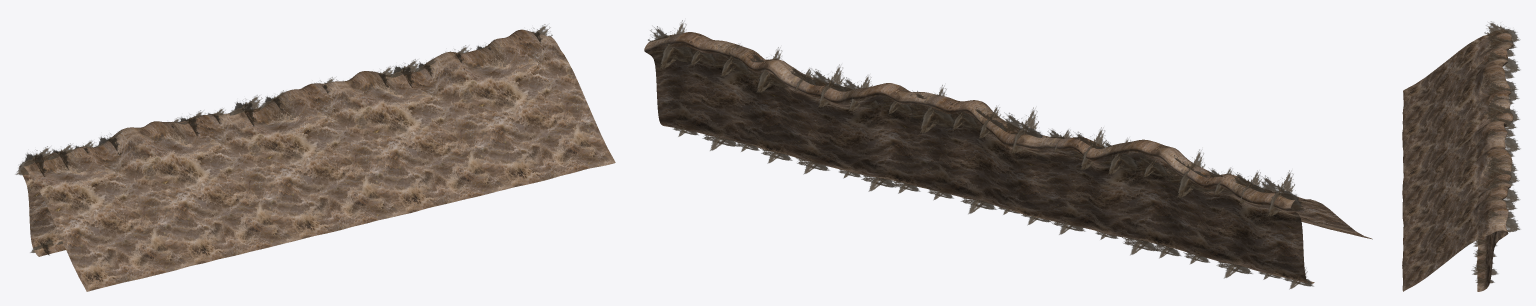
File: sea-water-front.glb
3 renders of one model, left to right at view 1: azimuth 30°, elevation 25°; view 2: azimuth 150°, elevation 25°; view 3: azimuth 270°, elevation 25°, orthographic. The views are drawn at different scales.
Parts seen in each view (by area): view 1: water-front:surge, water-front:spray; view 2: water-front:surge, water-front:spray; view 3: water-front:surge, water-front:spray.
Boxes of the visible parts, x1,y1,x2,y2 form: water-front:surge: (19,29,615,291); water-front:spray: (15,24,552,255); water-front:surge: (644,32,1372,283); water-front:spray: (648,20,1313,289); water-front:surge: (1402,29,1513,291); water-front:spray: (1471,21,1520,283).
Bounding box in the file's own units: 61.16 × 11.06 × 15.09.
2 materials, 2 textured.
